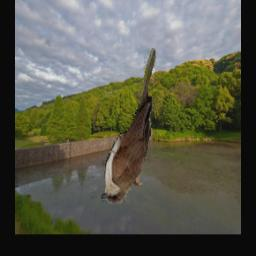Cuckoo: (100, 46, 155, 204)
